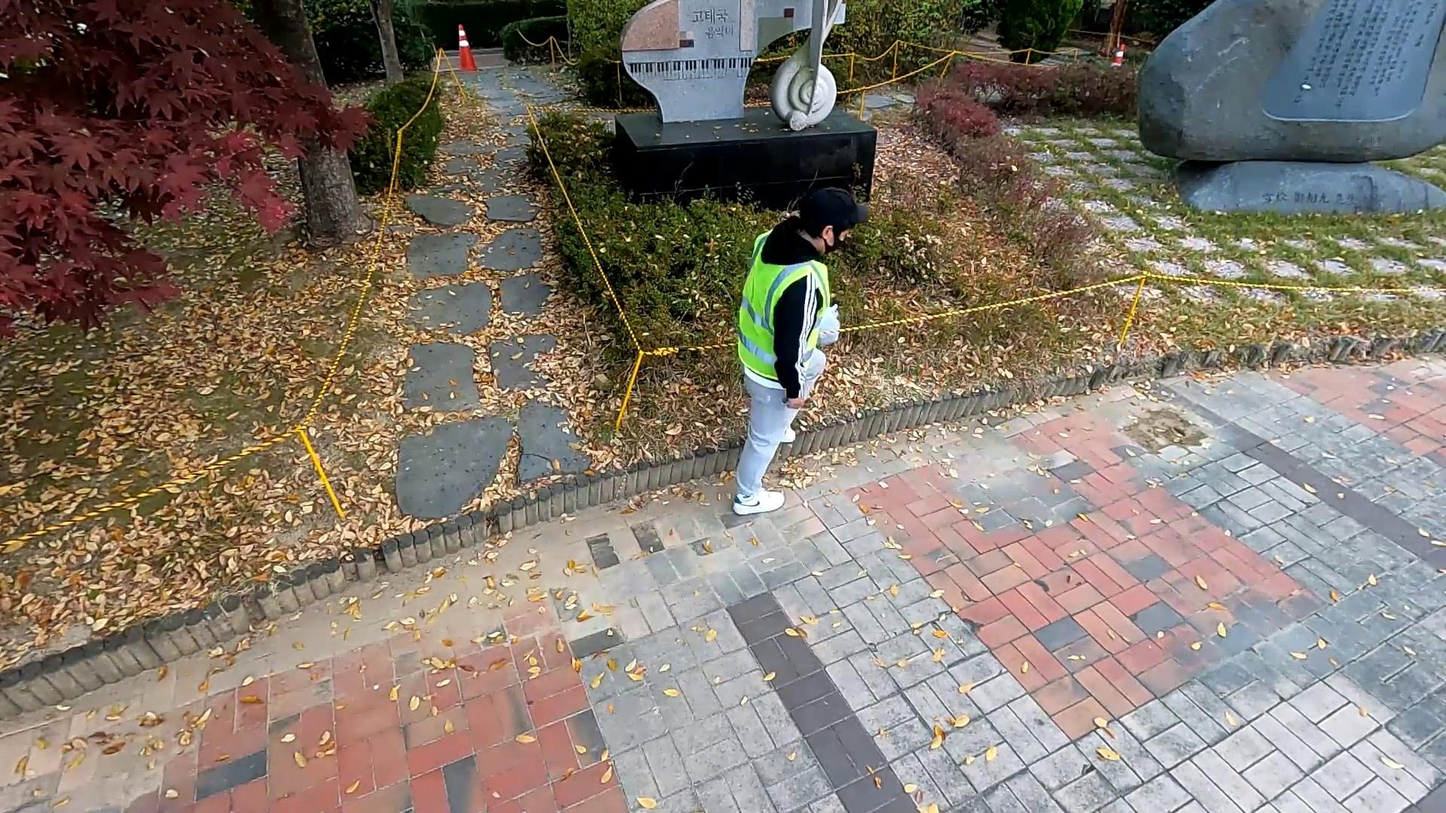person: (738, 186, 867, 519)
trash: (808, 303, 842, 347)
